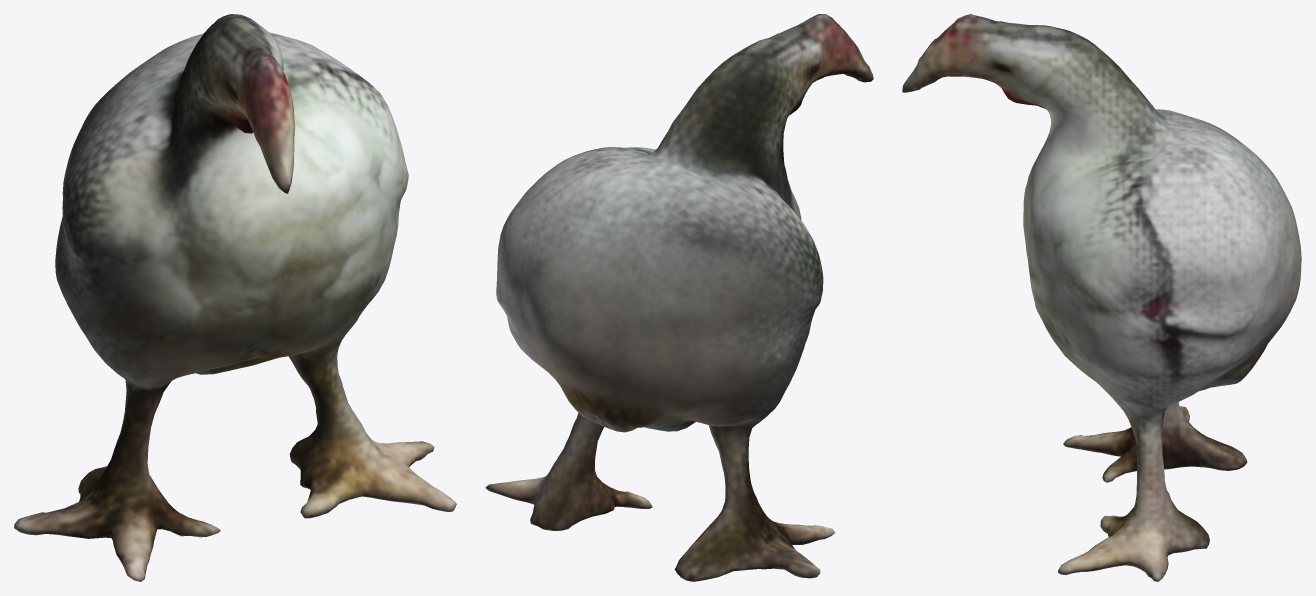
File: adulto.glb
3 renders of one model, left to right at view 1: azimuth 30°, elevation 25°; view 2: azimuth 150°, elevation 25°; view 3: azimuth 270°, elevation 25°, orthographic. The views are drawn at different scales.
Visible parts, largest first — view 1: mesh; view 2: mesh; view 3: mesh.
Part boxes in pixels (bbox=[...]): mesh: bbox=[14, 14, 456, 581]; mesh: bbox=[485, 14, 873, 581]; mesh: bbox=[902, 14, 1301, 581].
Bounding box in the file's own units: 1.23 × 1.6 × 1.25.
1 material, 1 textured.
